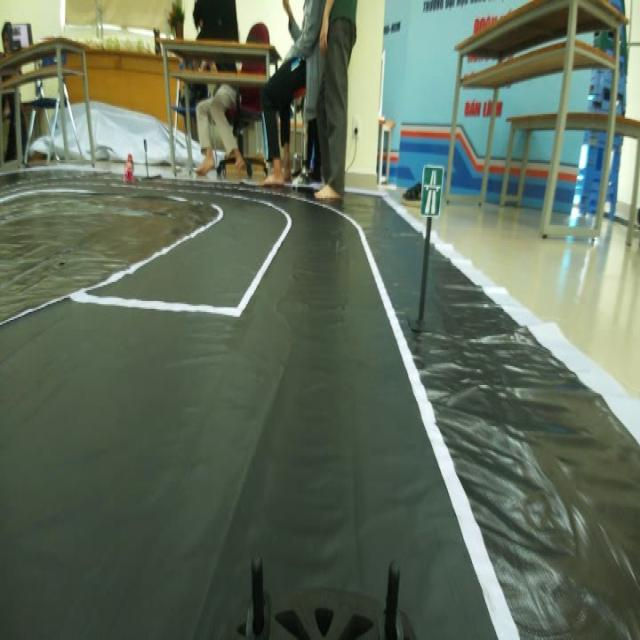highway_entry: (420, 155, 446, 222)
